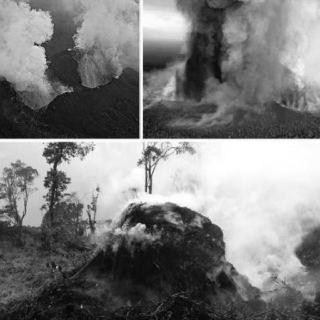Fire: (165, 64, 243, 106)
Smoke: (80, 2, 132, 48)
